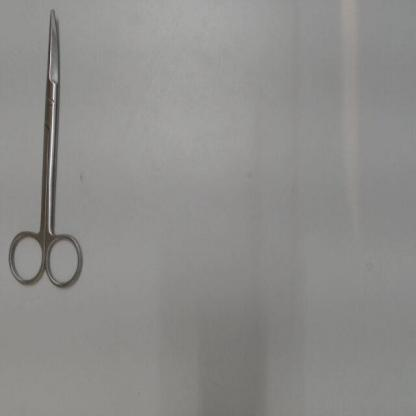Curved Mayo Scissors: (6, 6, 88, 296)
